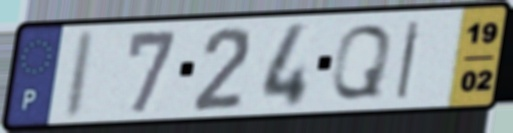2: (191, 23, 257, 114)
4: (259, 20, 312, 110)
7: (124, 28, 181, 115)
I: (60, 28, 100, 122), (393, 18, 425, 102)
Q: (327, 21, 396, 102)
